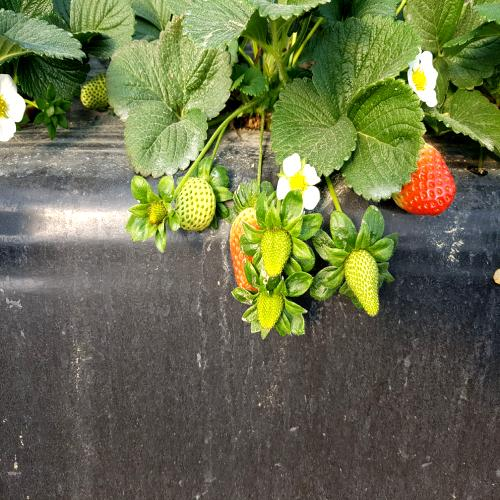partially-ripe: (384, 129, 463, 220)
